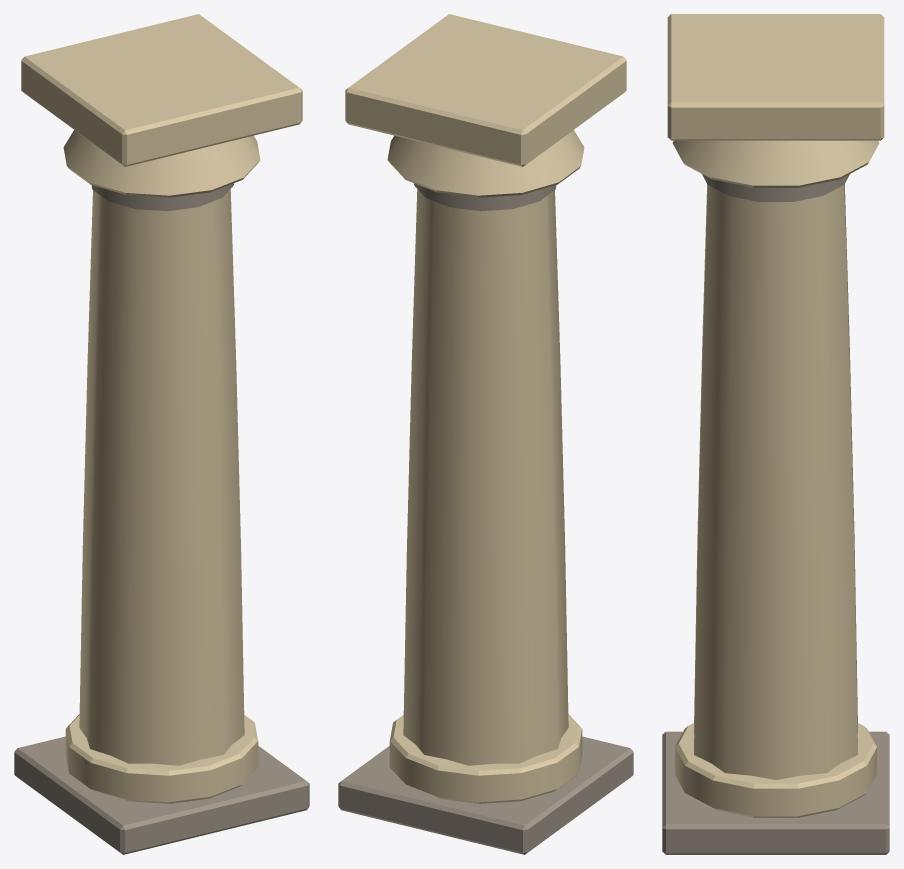
Rendered from column_doric_weathered_LOD1.glb.
The picture shows the model from 3 angles, left to right: view 1: azimuth 30°, elevation 25°; view 2: azimuth 150°, elevation 25°; view 3: azimuth 270°, elevation 25°; orthographic projection. The views are drawn at different scales.
Visible parts, largest first — view 1: column_doric_weathered_LOD1; view 2: column_doric_weathered_LOD1; view 3: column_doric_weathered_LOD1.
Part boxes in pixels (left/top/right/bottom): column_doric_weathered_LOD1: left=14, top=14, right=309, bottom=854; column_doric_weathered_LOD1: left=338, top=14, right=633, bottom=854; column_doric_weathered_LOD1: left=662, top=14, right=889, bottom=854.
Bounding box in the file's own units: 1.08 × 3.93 × 1.08.
